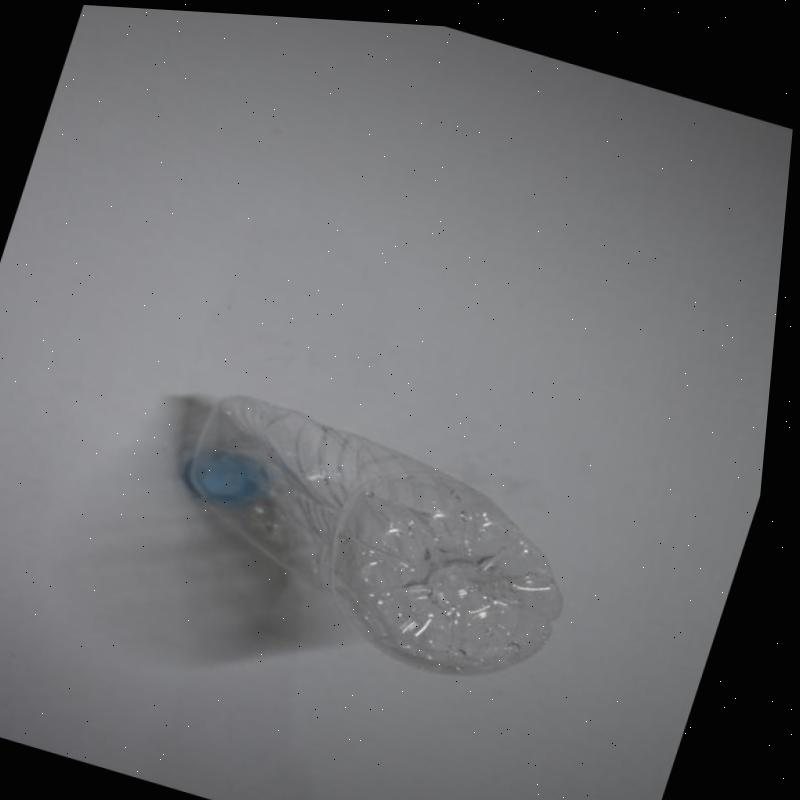botella: (151, 376, 615, 699)
